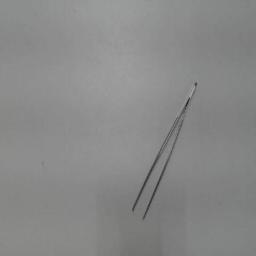Gillies Toothed Dissector: (128, 74, 202, 224)
